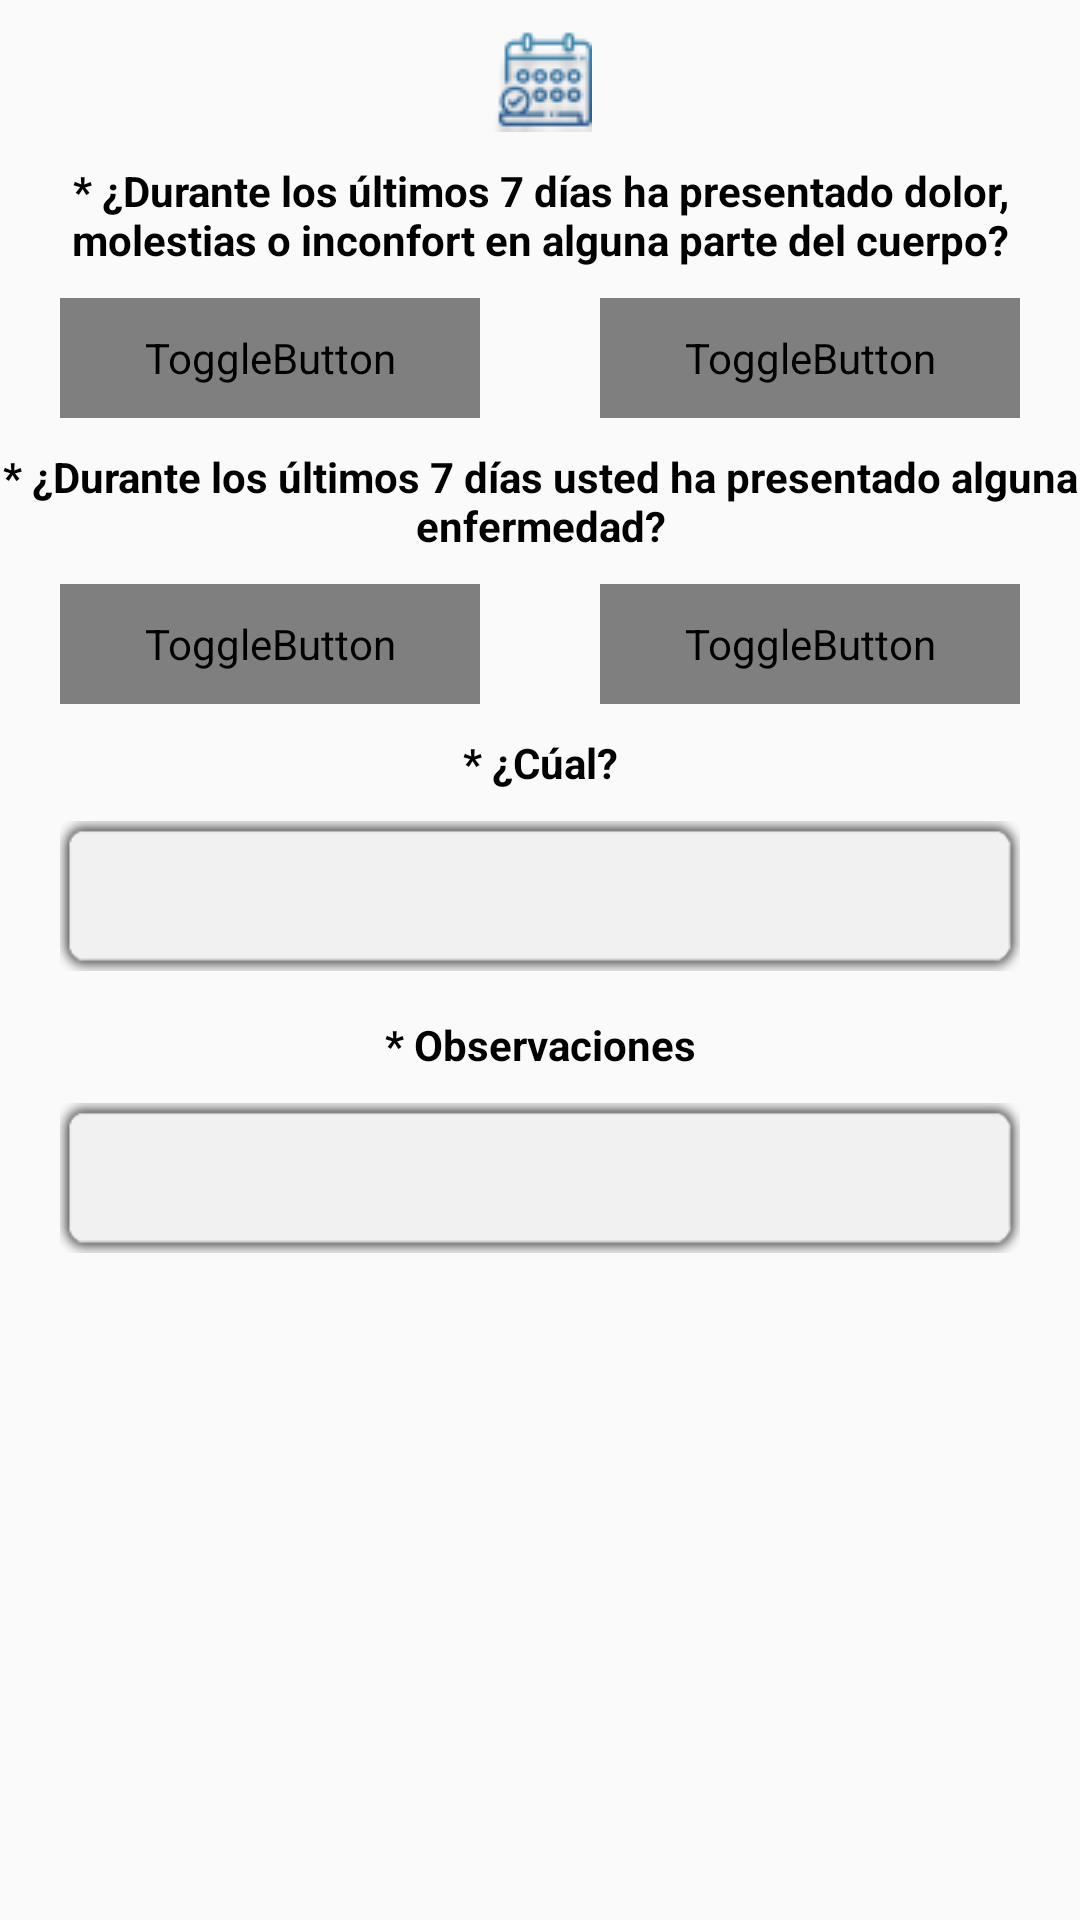

Icons on this 1080w x 1920h Android screen, each with the point to tap as point (x, y):
appointment: point (545, 82)
